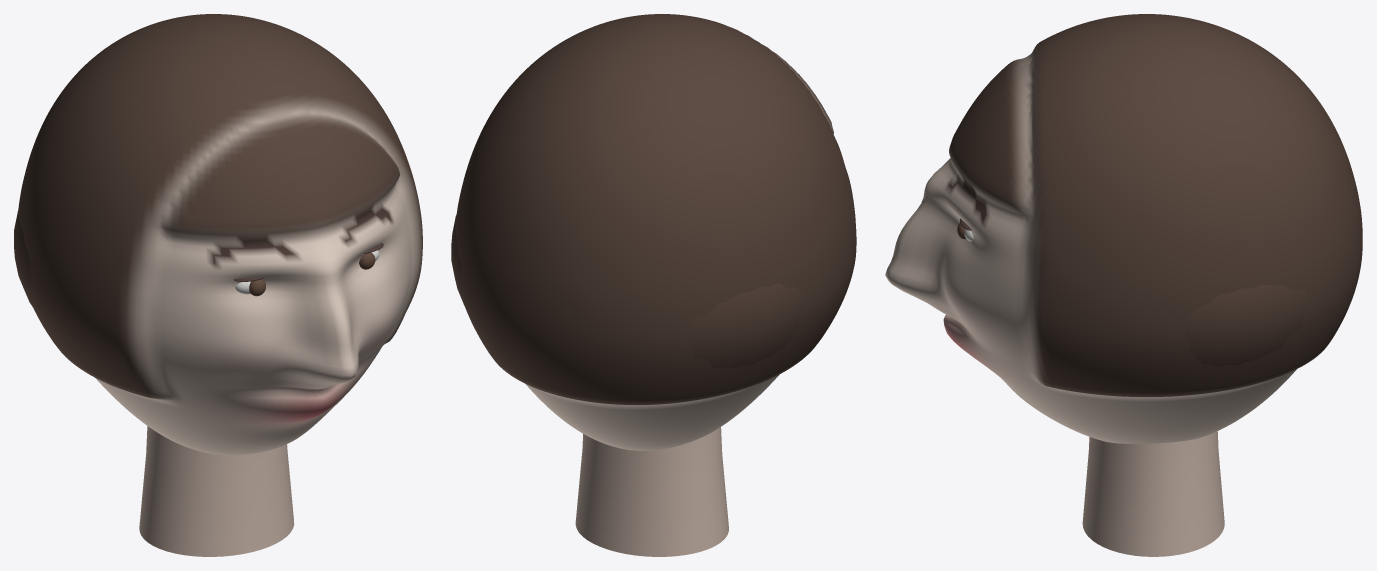
The picture shows the model from 3 angles, left to right: view 1: azimuth 30°, elevation 25°; view 2: azimuth 150°, elevation 25°; view 3: azimuth 270°, elevation 25°; orthographic projection.
Visible parts, largest first — view 1: Claudette_Colbert_head; view 2: Claudette_Colbert_head; view 3: Claudette_Colbert_head.
Boxes of the visible parts, x1,y1,x2,y2 form: Claudette_Colbert_head: [14, 14, 422, 556]; Claudette_Colbert_head: [451, 14, 856, 556]; Claudette_Colbert_head: [885, 14, 1362, 556].
Bounding box in the file's own units: 1.7 × 2.34 × 2.06.
